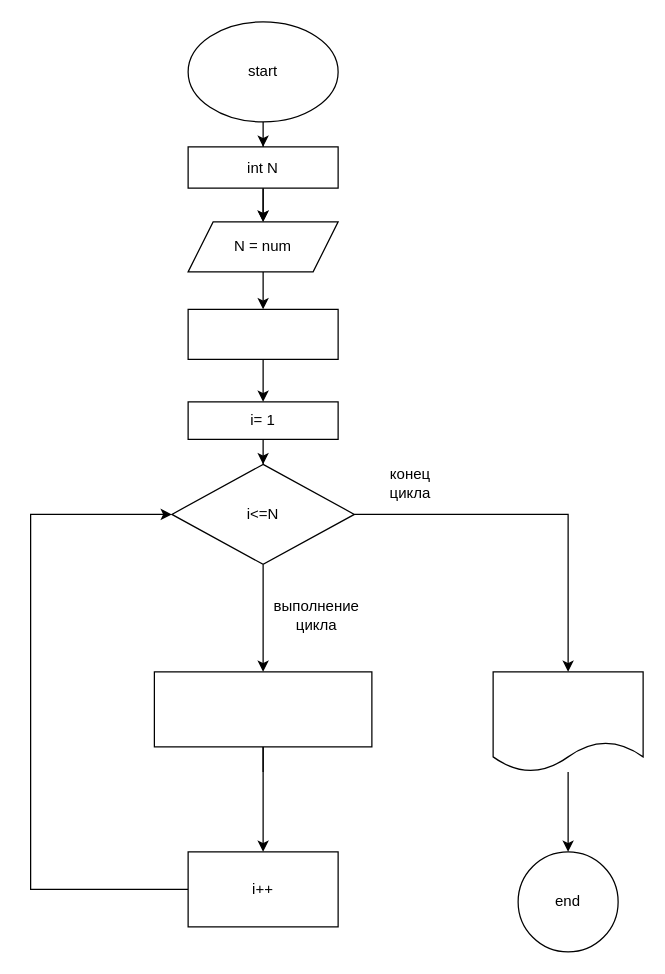
Image size: 665x974. Some labels were removed from this diagram. The centre of each missing label's shape, as x and y in pixels:
"multiplyN = 1" goes at point 262,333.
"multiplyN = multiplyN * i" goes at point 262,709.
"print multiplyN" goes at point 567,721.
